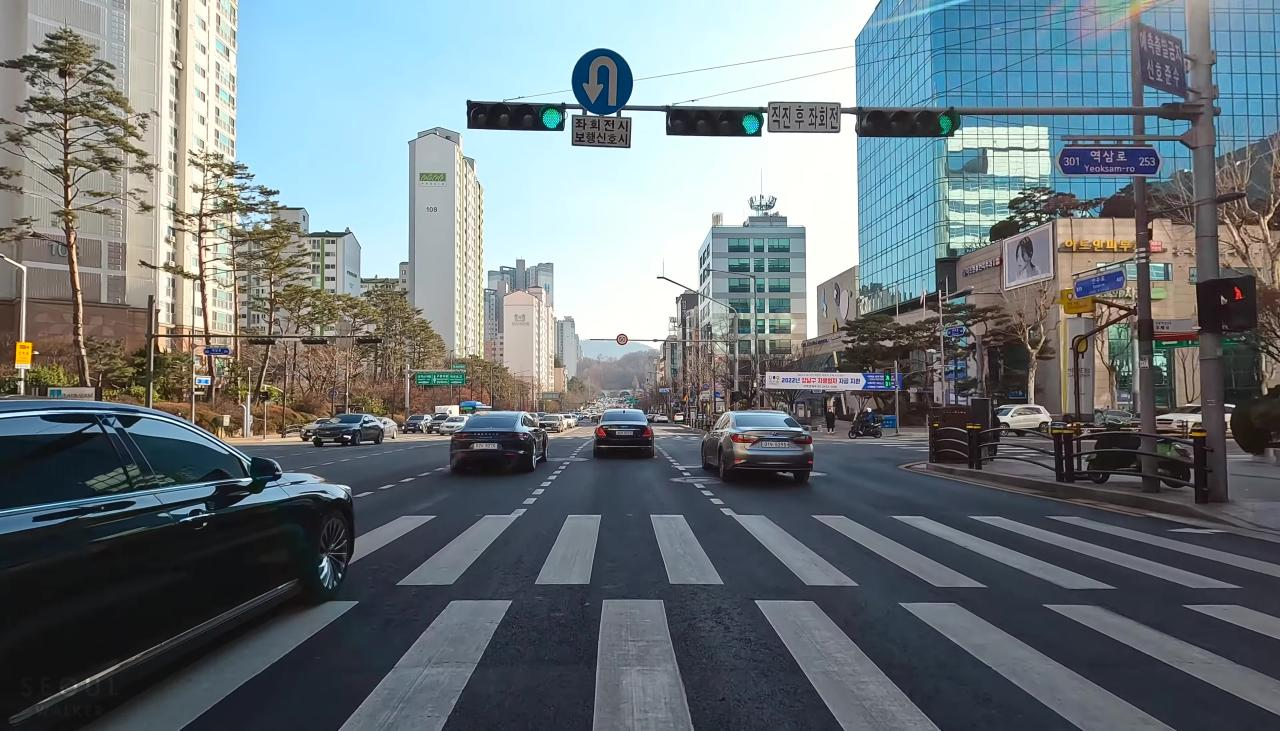Green Light: (741, 109, 764, 138), (540, 104, 561, 129), (936, 113, 956, 138)
